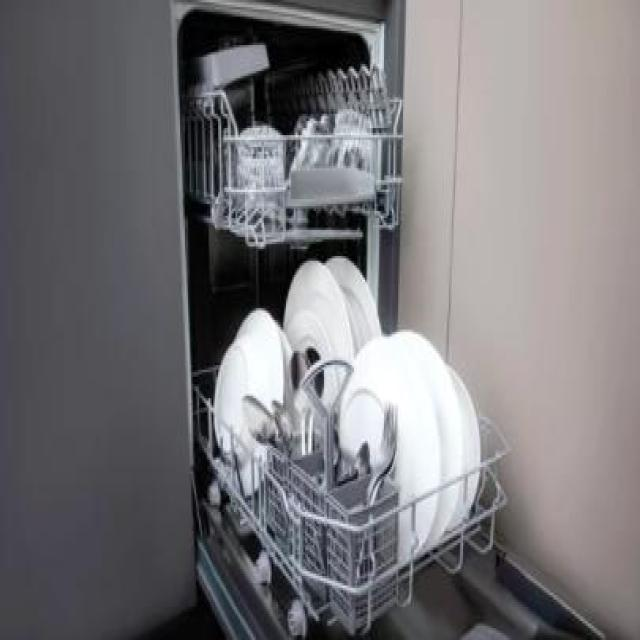dishwasher: (169, 0, 539, 638)
